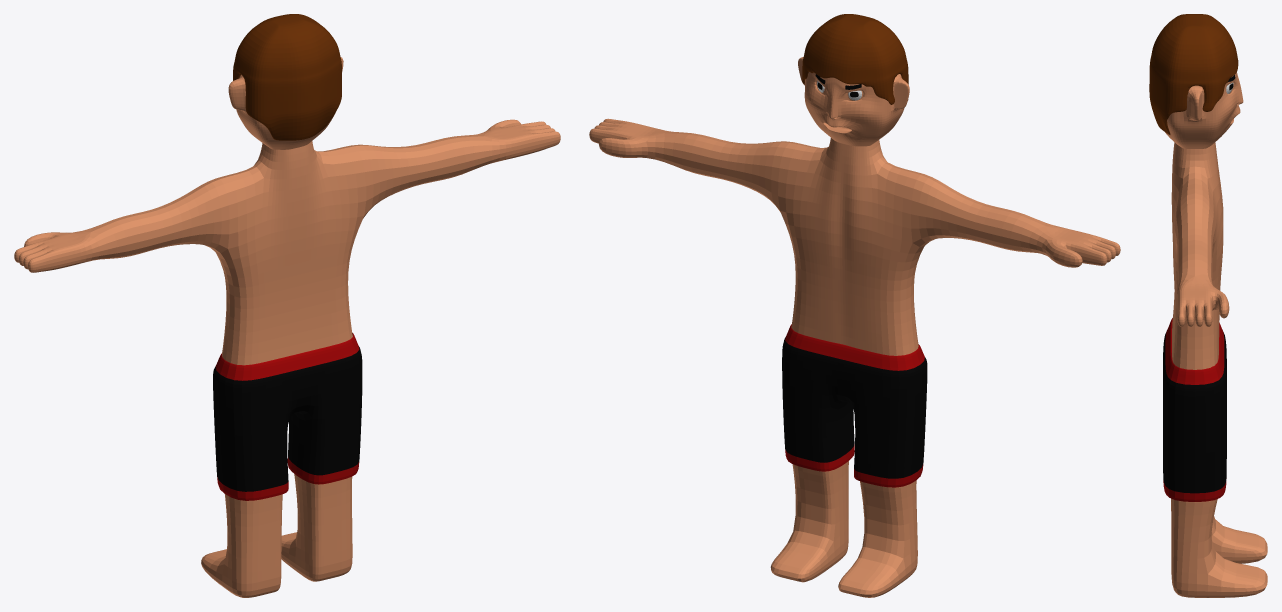
File: MNPC2.fbx
3 views of the same model, side by side, from view 1: azimuth 30°, elevation 25°; view 2: azimuth 150°, elevation 25°; view 3: azimuth 270°, elevation 25° (orthographic). The views are drawn at different scales.
Visible parts, largest first — view 1: MNPC2; view 2: MNPC2; view 3: MNPC2.
Boxes of the visible parts, x1=… form: MNPC2: x1=14, y1=14, x2=560, y2=597; MNPC2: x1=589, y1=14, x2=1120, y2=597; MNPC2: x1=1149, y1=14, x2=1267, y2=597.
Bounding box in the file's own units: 169 × 171 × 33.05.
